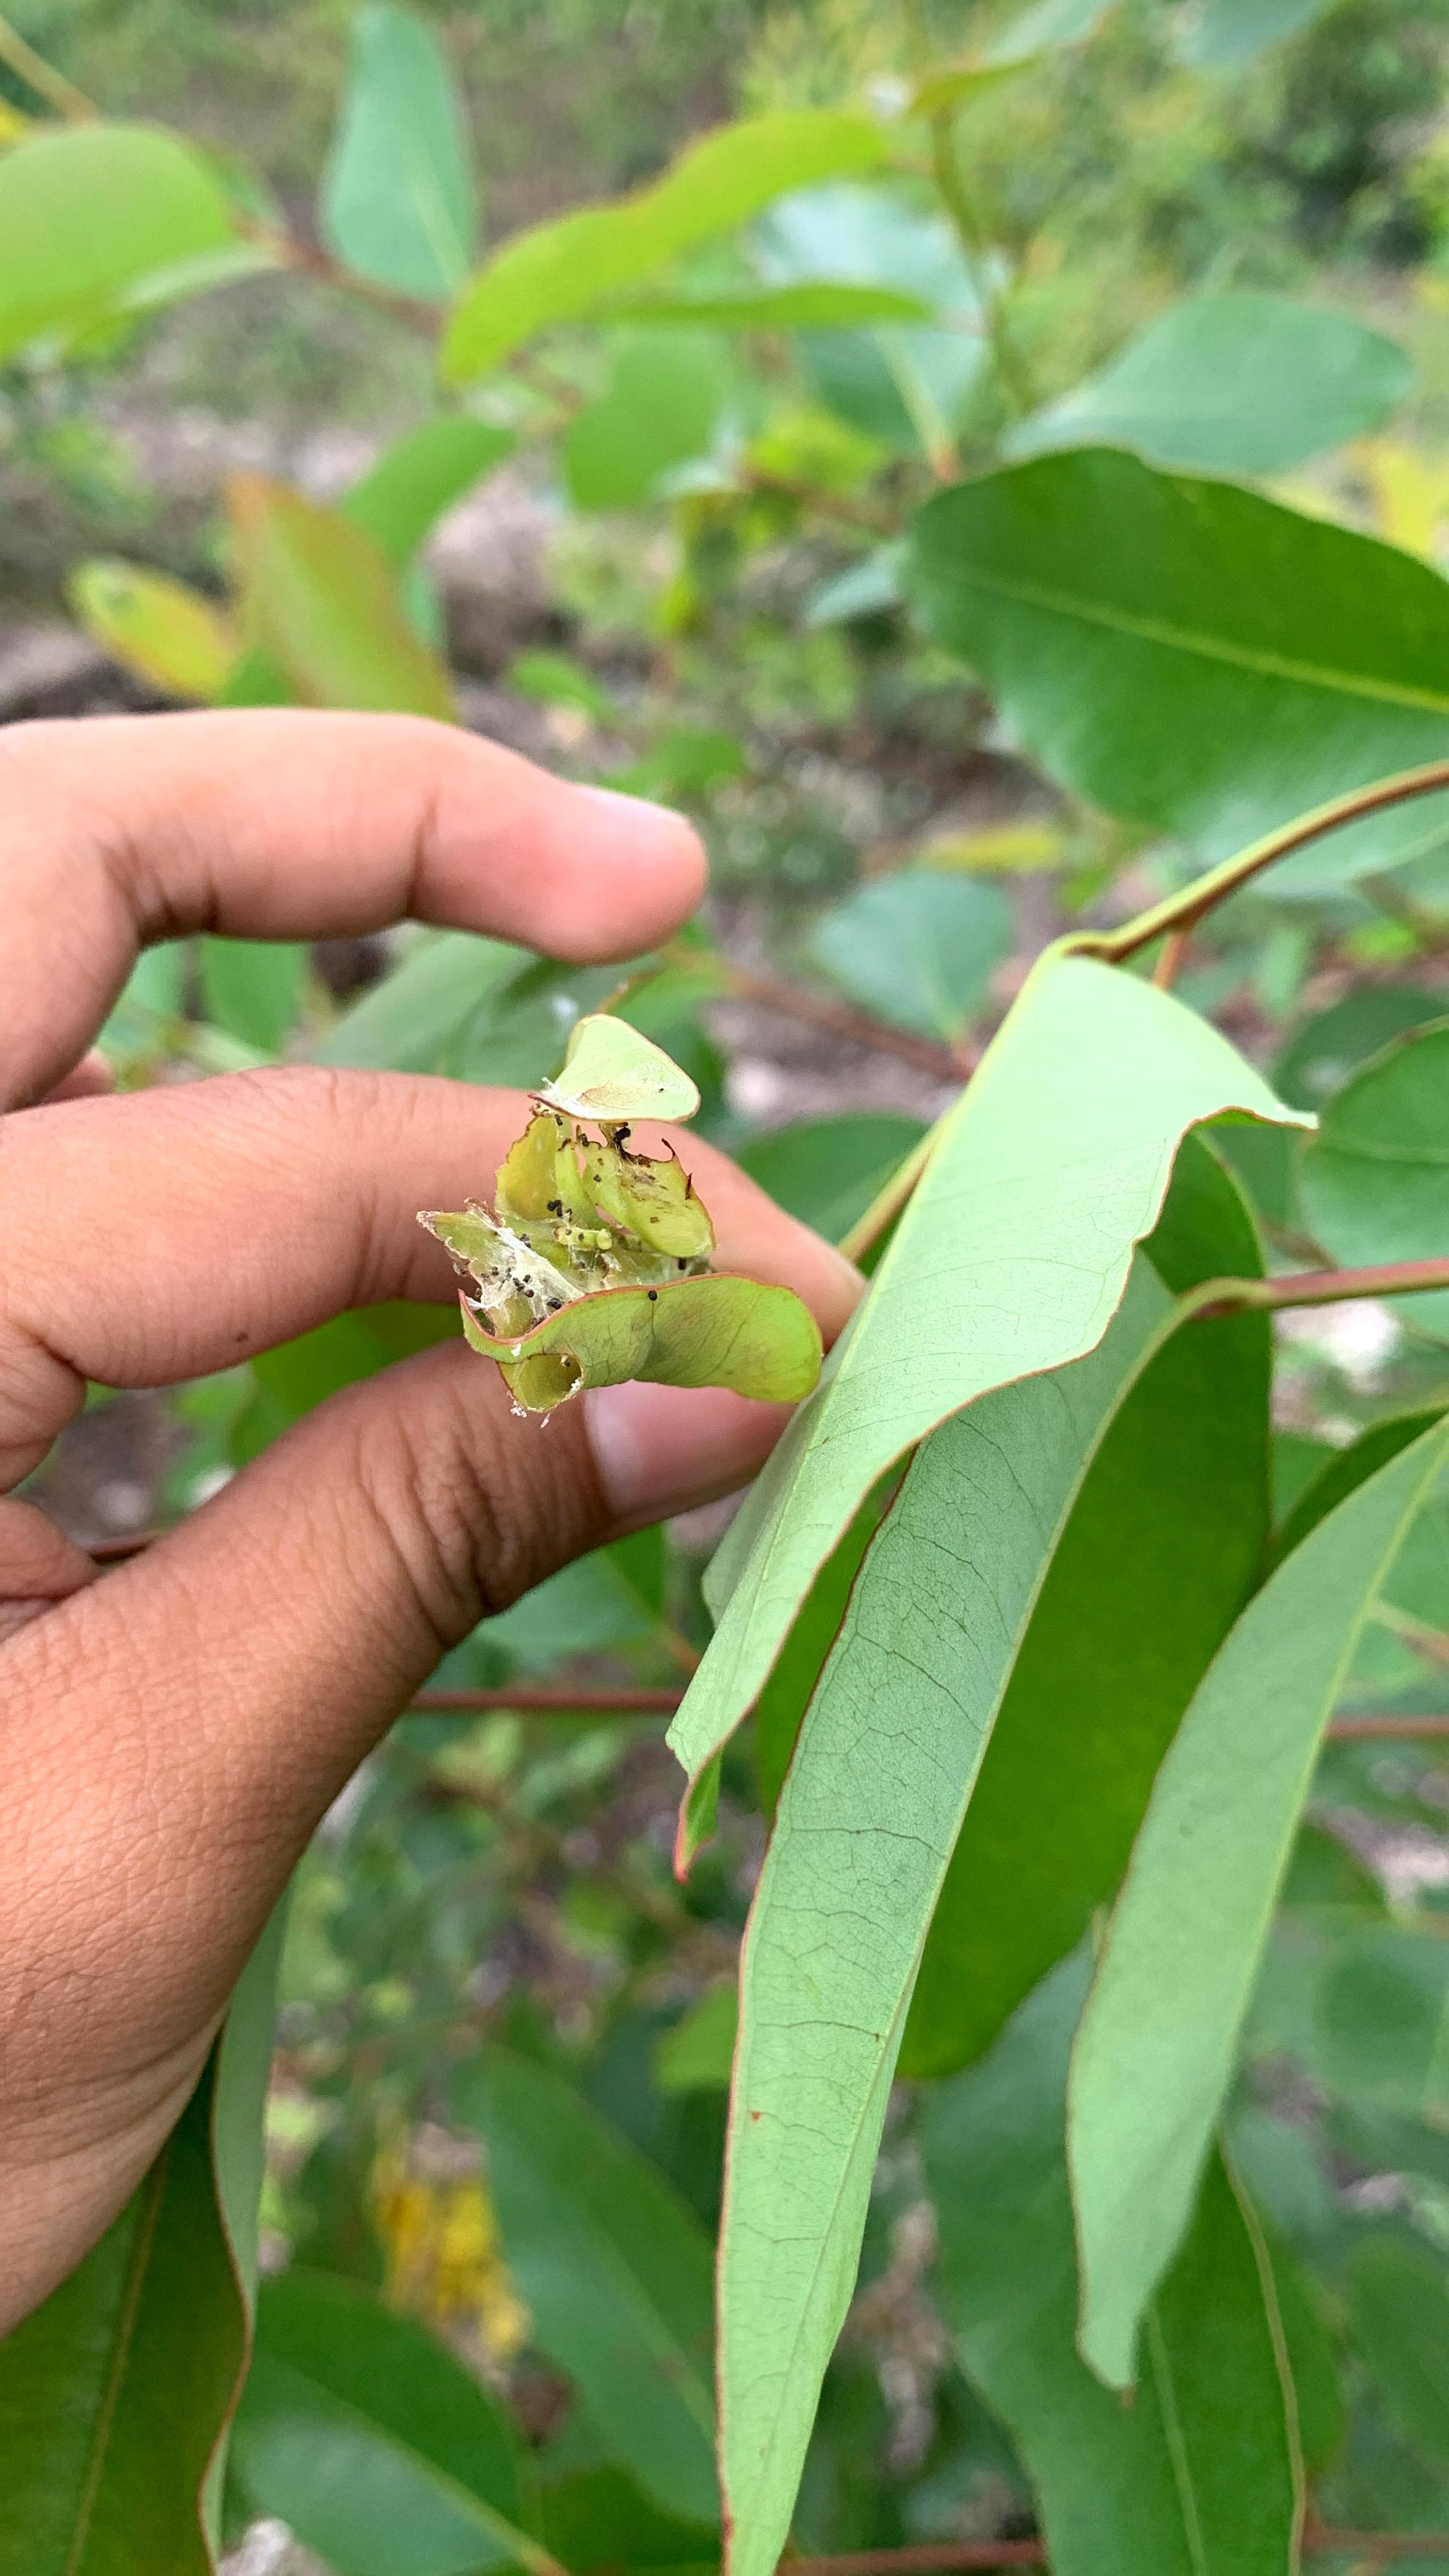Leaf Roller - Leaf: (425, 1124, 834, 1439)
